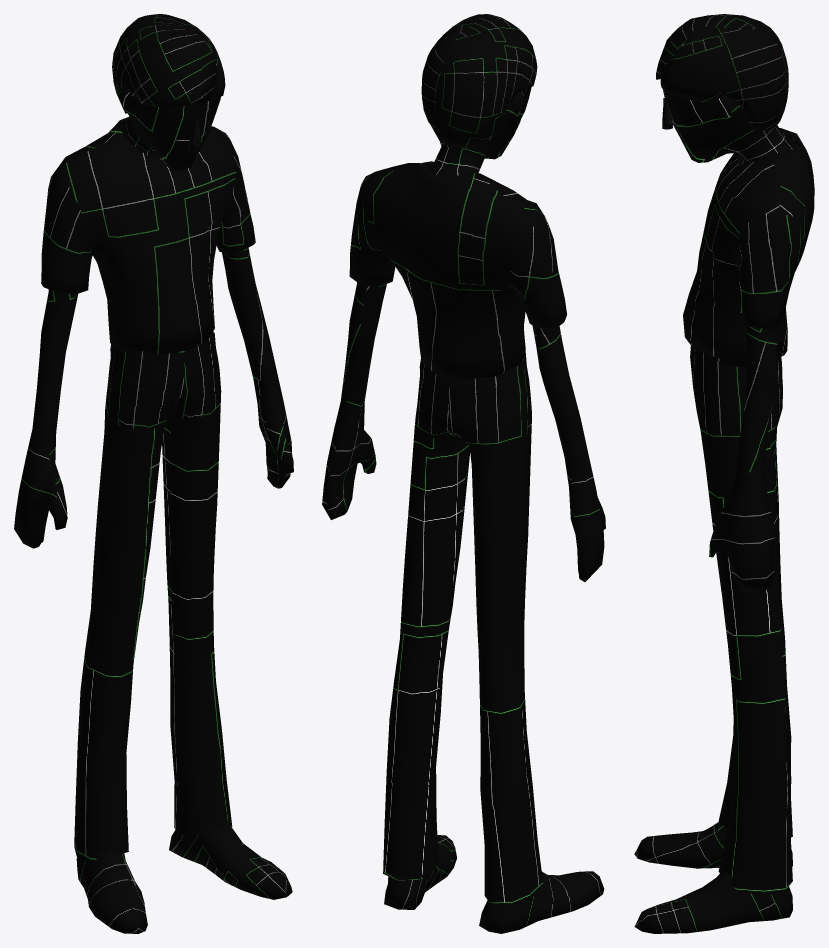
The model's file is me stage 1.fbx.
3 renders of one model, left to right at view 1: azimuth 30°, elevation 25°; view 2: azimuth 150°, elevation 25°; view 3: azimuth 270°, elevation 25°, orthographic.
Visible parts, largest first — view 1: Body_Me_Rig_fk:celana, Body_Me_Rig_fk:baju, Body_Me_Rig_fk:body, Body_Me_Rig_fk:sepatu, Body_Me_Rig_fk:rambut; view 2: Body_Me_Rig_fk:celana, Body_Me_Rig_fk:baju, Body_Me_Rig_fk:body, Body_Me_Rig_fk:rambut, Body_Me_Rig_fk:sepatu; view 3: Body_Me_Rig_fk:celana, Body_Me_Rig_fk:baju, Body_Me_Rig_fk:body, Body_Me_Rig_fk:rambut, Body_Me_Rig_fk:sepatu.
Part boxes in pixels (x1=…): Body_Me_Rig_fk:celana: x1=74, y1=331, x2=232, y2=861; Body_Me_Rig_fk:baju: x1=41, y1=116, x2=255, y2=354; Body_Me_Rig_fk:body: x1=14, y1=69, x2=293, y2=548; Body_Me_Rig_fk:sepatu: x1=76, y1=821, x2=292, y2=933; Body_Me_Rig_fk:rambut: x1=112, y1=14, x2=225, y2=113; Body_Me_Rig_fk:celana: x1=383, y1=350, x2=543, y2=905; Body_Me_Rig_fk:baju: x1=349, y1=161, x2=567, y2=380; Body_Me_Rig_fk:body: x1=322, y1=87, x2=605, y2=581; Body_Me_Rig_fk:rambut: x1=421, y1=14, x2=537, y2=148; Body_Me_Rig_fk:sepatu: x1=384, y1=835, x2=604, y2=933; Body_Me_Rig_fk:celana: x1=690, y1=346, x2=792, y2=895; Body_Me_Rig_fk:baju: x1=683, y1=128, x2=814, y2=366; Body_Me_Rig_fk:body: x1=663, y1=41, x2=798, y2=592; Body_Me_Rig_fk:rambut: x1=656, y1=14, x2=788, y2=131; Body_Me_Rig_fk:sepatu: x1=634, y1=822, x2=792, y2=933.
Size of the model in its own units: 13.3 by 41.3 by 7.75.
